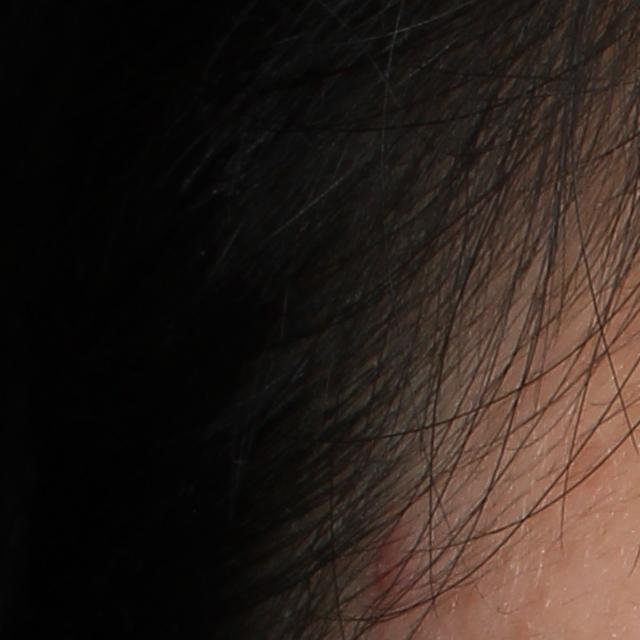papule: (372, 523, 416, 606)
